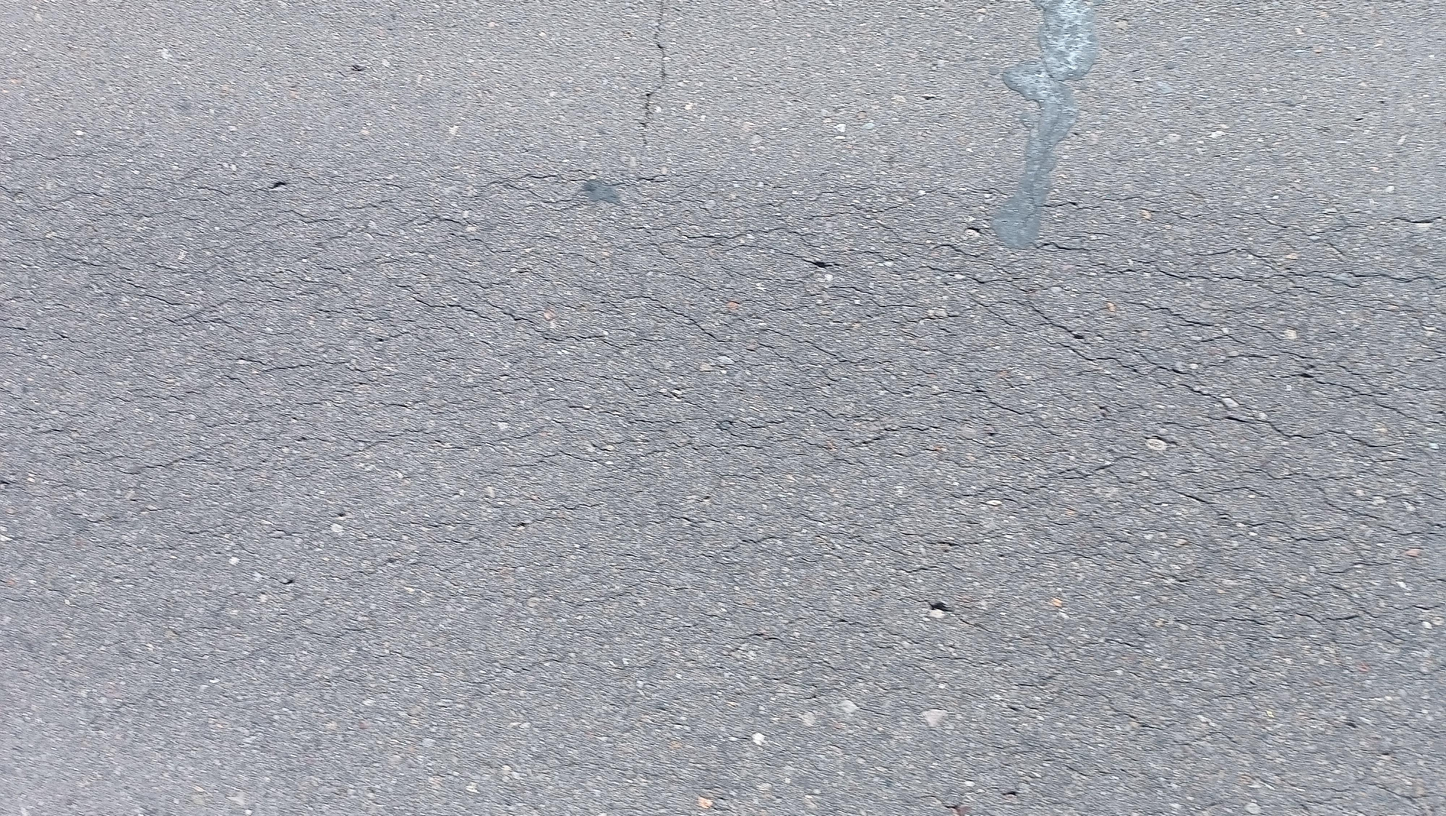GRIETA: (639, 1, 667, 161)
PARCHE: (1031, 0, 1100, 81)
PIEL DE COCODRILO: (0, 168, 1446, 682)
